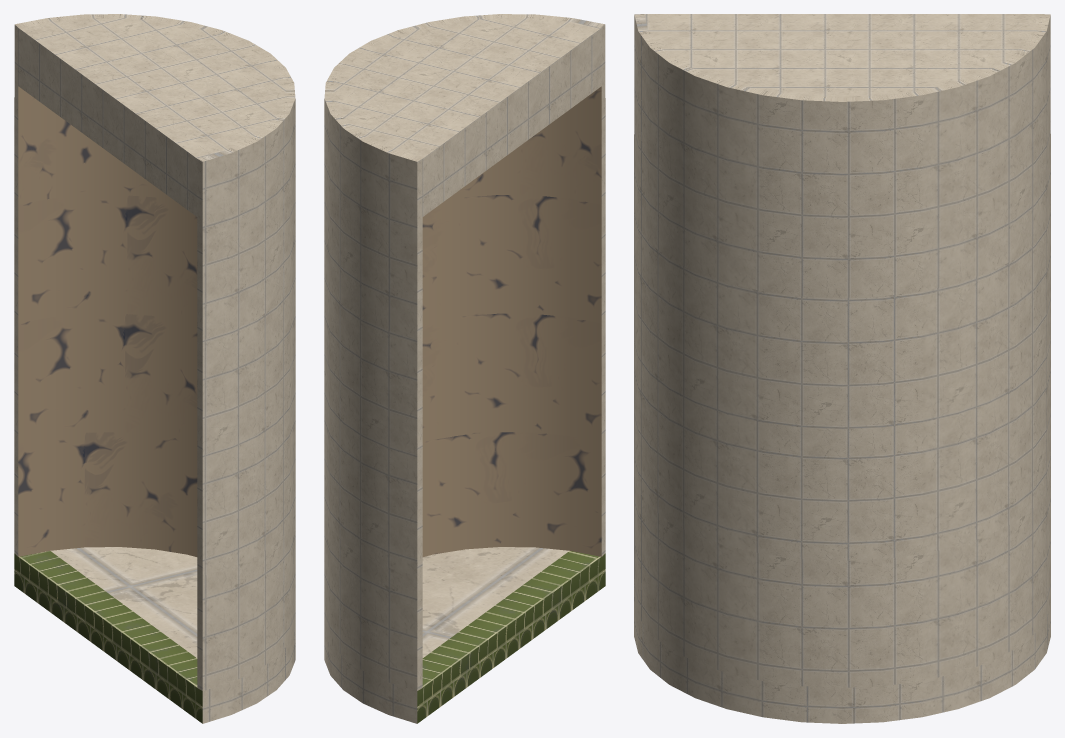
File: CurvedWaterfall.fbx
3 renders of one model, left to right at view 1: azimuth 30°, elevation 25°; view 2: azimuth 150°, elevation 25°; view 3: azimuth 270°, elevation 25°, orthographic. The views are drawn at different scales.
Parts seen in each view (by area): view 1: Cylinder.001; view 2: Cylinder.001; view 3: Cylinder.001.
Boxes of the visible parts, x1,y1,x2,y2 form: Cylinder.001: (14,14,295,723); Cylinder.001: (324,14,605,723); Cylinder.001: (634,14,1050,723).
Size of the model in its own units: 1882 by 6203 by 3768.
